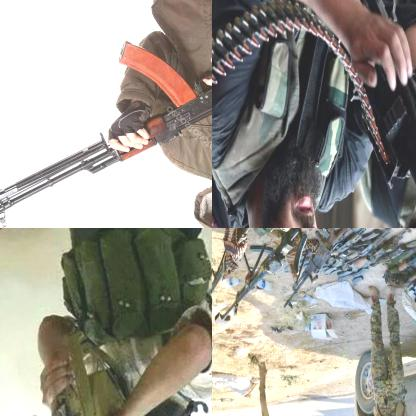rifle: (0, 13, 211, 227), (355, 0, 415, 227), (0, 334, 138, 415), (217, 229, 296, 326), (286, 228, 352, 311), (212, 228, 261, 313), (341, 228, 398, 262), (383, 236, 415, 281), (400, 245, 415, 289)
